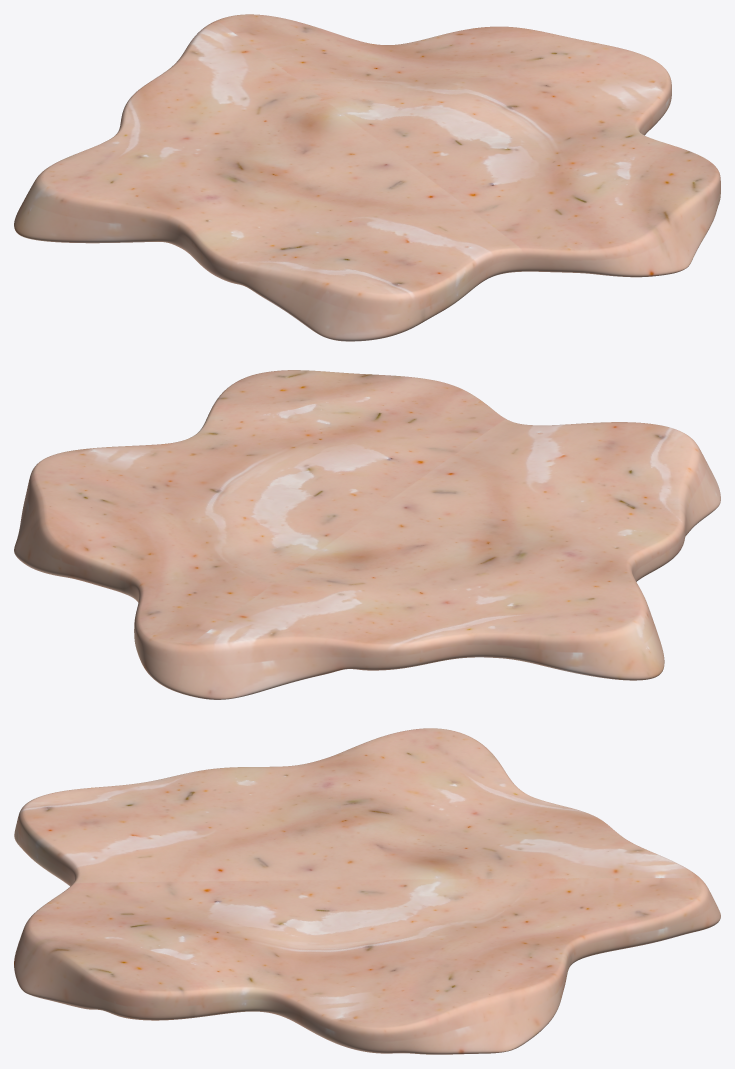
The model's file is sauce.glb.
3 views of the same model, one above another, from view 1: azimuth 30°, elevation 25°; view 2: azimuth 150°, elevation 25°; view 3: azimuth 270°, elevation 25° (orthographic). The views are drawn at different scales.
Parts seen in each view (by area): view 1: Cylinder; view 2: Cylinder; view 3: Cylinder.
Part boxes in pixels (x1,y1,x2,y2): Cylinder: (14,14,720,341); Cylinder: (14,370,720,699); Cylinder: (14,728,720,1054).
Size of the model in its own units: 2.08 by 0.1444 by 2.
Materials: 1 (1 with a texture image).
